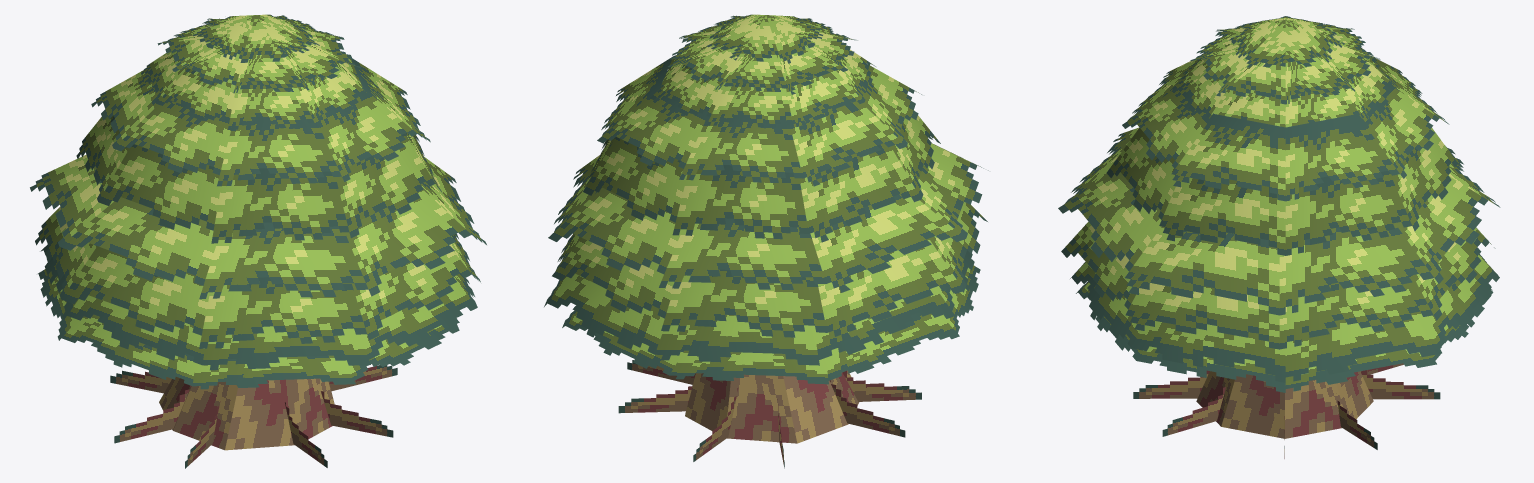
The model's file is tree_3d_3.glb.
The picture shows the model from 3 angles, left to right: view 1: azimuth 30°, elevation 25°; view 2: azimuth 150°, elevation 25°; view 3: azimuth 270°, elevation 25°; orthographic projection. The views are drawn at different scales.
Parts seen in each view (by area): view 1: Cube.001; view 2: Cube.001; view 3: Cube.001.
Part boxes in pixels (box(x1,y1,x2,y2)): Cube.001: box(30, 14, 486, 468); Cube.001: box(544, 14, 988, 468); Cube.001: box(1058, 16, 1500, 458).
Size of the model in its own units: 4.97 by 4.38 by 4.98.
Materials: 1 (1 with a texture image).
